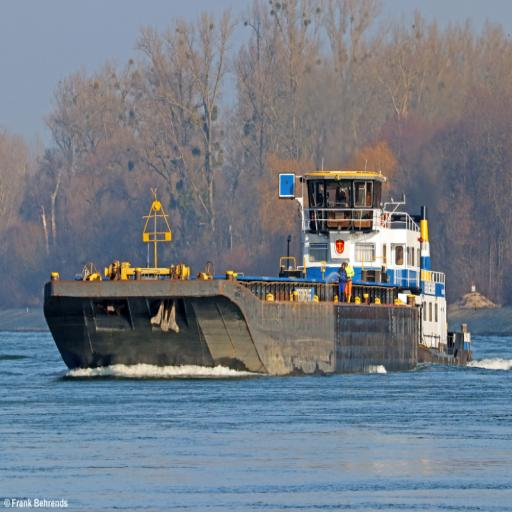tugboat: (266, 157, 477, 375)
